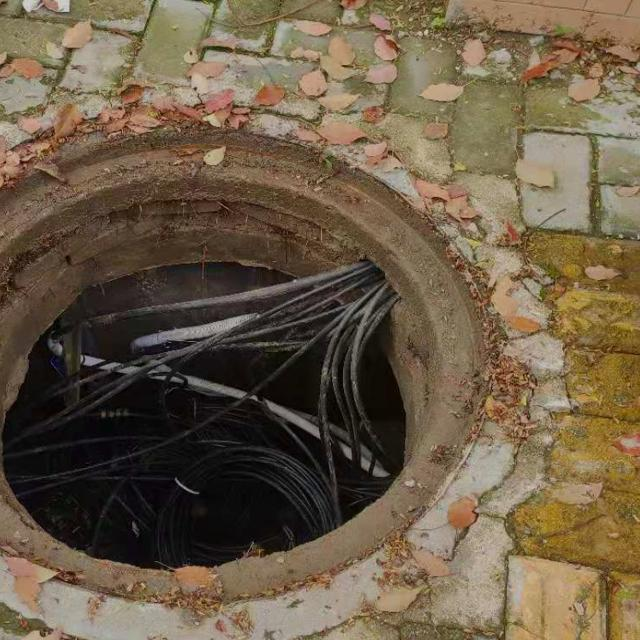lose: (0, 107, 525, 640)
